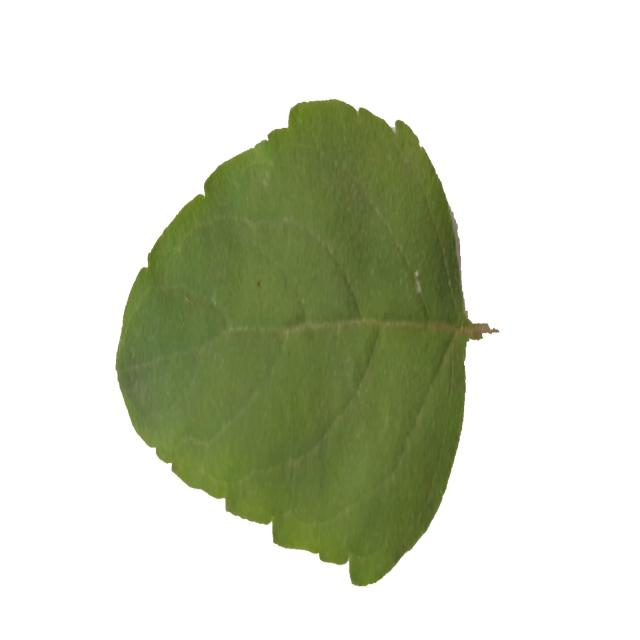tulsi: (110, 96, 489, 592)
